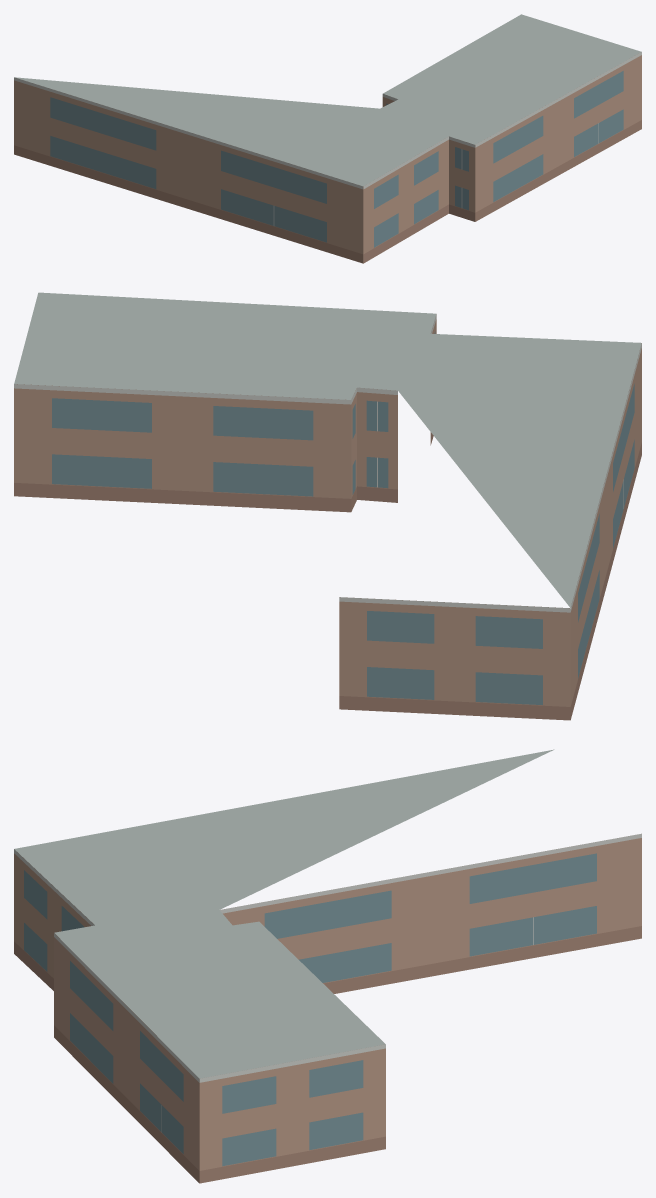
The model's file is survey-upis-32794547.glb.
The picture shows the model from 3 angles, top to bottom: view 1: azimuth 30°, elevation 25°; view 2: azimuth 150°, elevation 25°; view 3: azimuth 270°, elevation 25°; orthographic projection. The views are drawn at different scales.
Parts seen in each view (by area): view 1: survey-upis-32794547.tmp; view 2: survey-upis-32794547.tmp; view 3: survey-upis-32794547.tmp.
Boxes of the visible parts, x1,y1,x2,y2 form: survey-upis-32794547.tmp: (14,14,641,263); survey-upis-32794547.tmp: (14,292,641,720); survey-upis-32794547.tmp: (14,749,641,1183).
Size of the model in its own units: 41.1 by 6.1 by 33.12.
